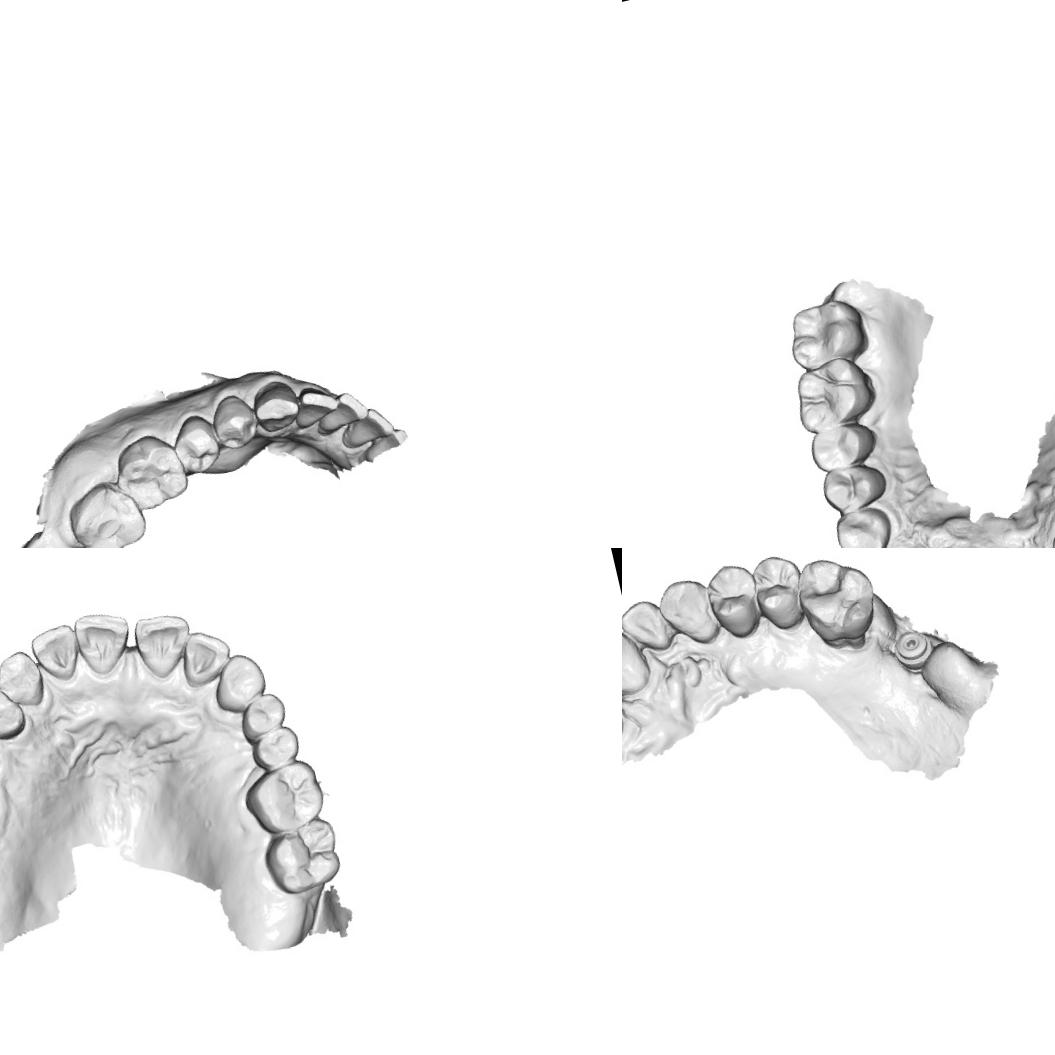canine: (652, 572, 729, 655), (207, 648, 272, 714), (245, 375, 304, 438), (0, 646, 49, 716), (828, 501, 899, 548)
implant: (886, 625, 936, 668)
incisor: (130, 607, 201, 683), (70, 605, 139, 679), (174, 623, 238, 689), (26, 621, 88, 689), (335, 402, 398, 453), (622, 594, 671, 659), (312, 387, 372, 436), (286, 380, 342, 432), (622, 620, 654, 705)
molar: (789, 548, 888, 661), (785, 349, 883, 436), (256, 813, 348, 901), (108, 426, 195, 516), (781, 292, 873, 376), (238, 755, 326, 841), (61, 471, 153, 548)
premolar: (745, 549, 812, 637), (701, 556, 766, 643), (817, 457, 891, 517), (165, 408, 227, 479), (807, 418, 882, 476), (206, 388, 263, 454), (233, 690, 290, 742), (246, 722, 304, 773), (0, 681, 29, 748)
